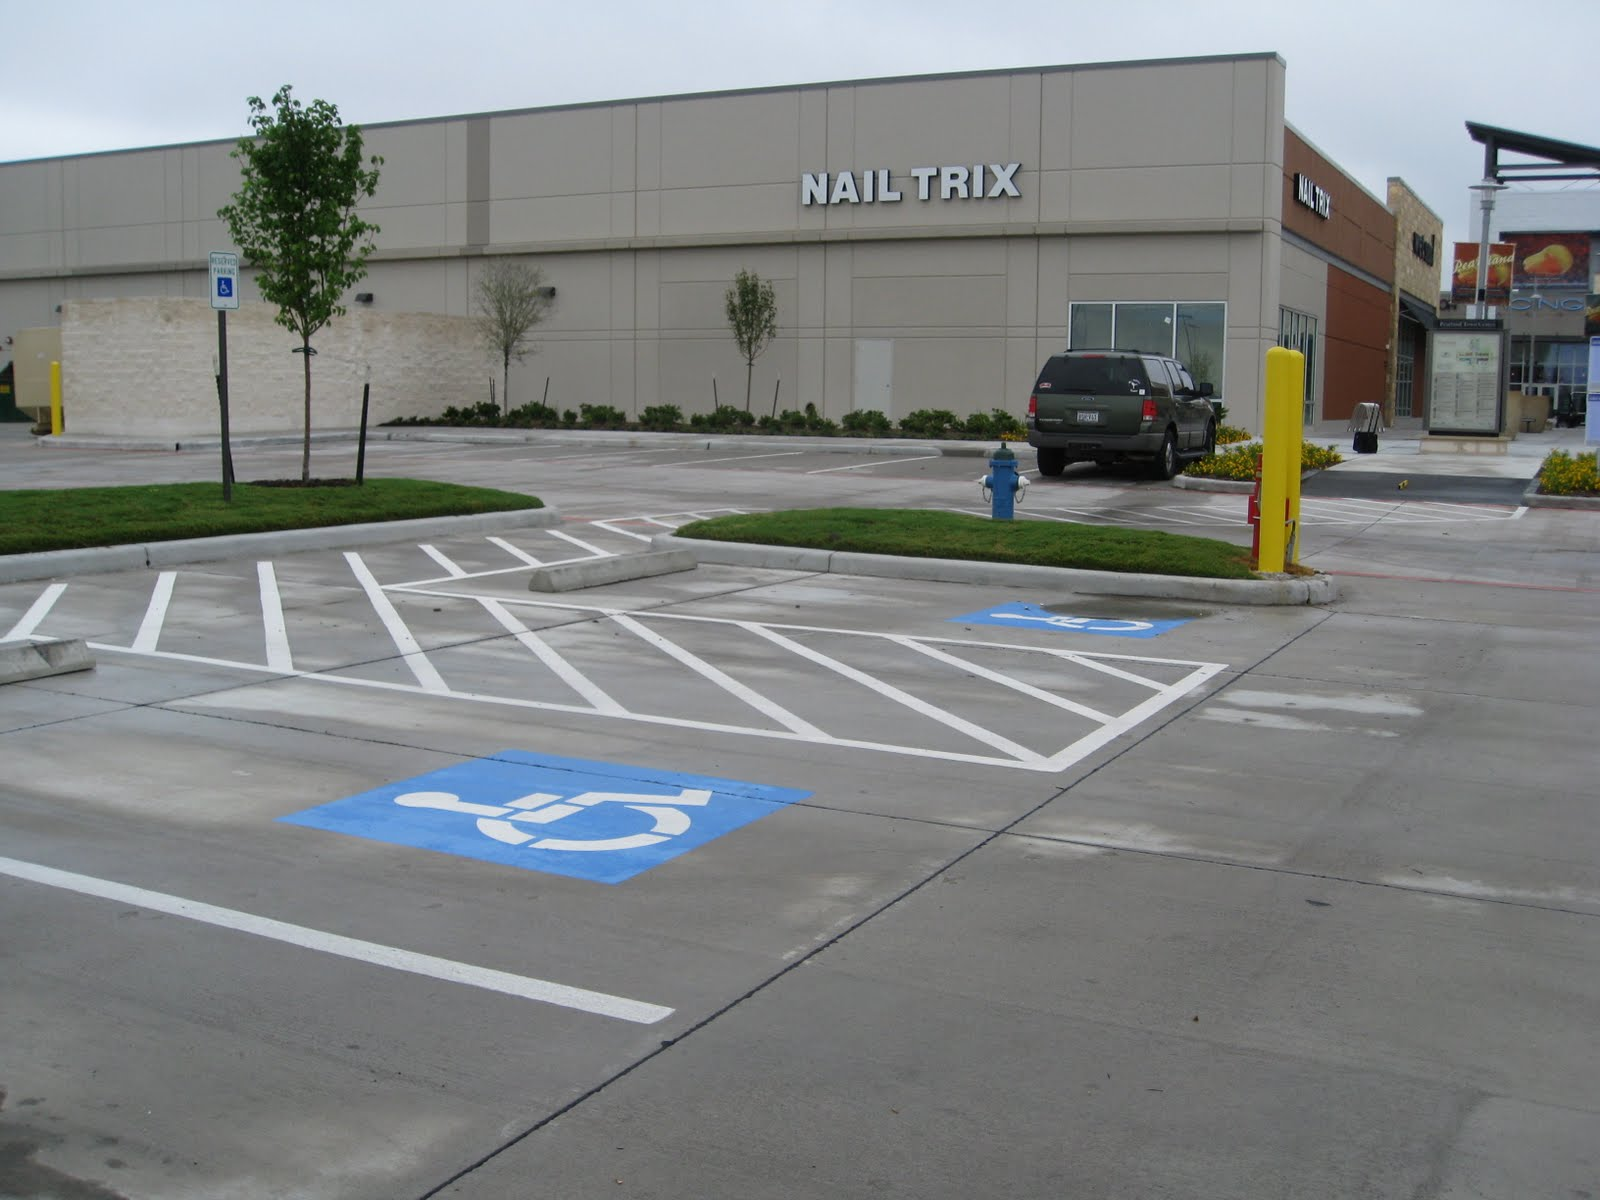empyt_space: (5, 634, 1092, 1047), (413, 545, 1315, 677), (648, 442, 940, 483), (805, 442, 1036, 490)
